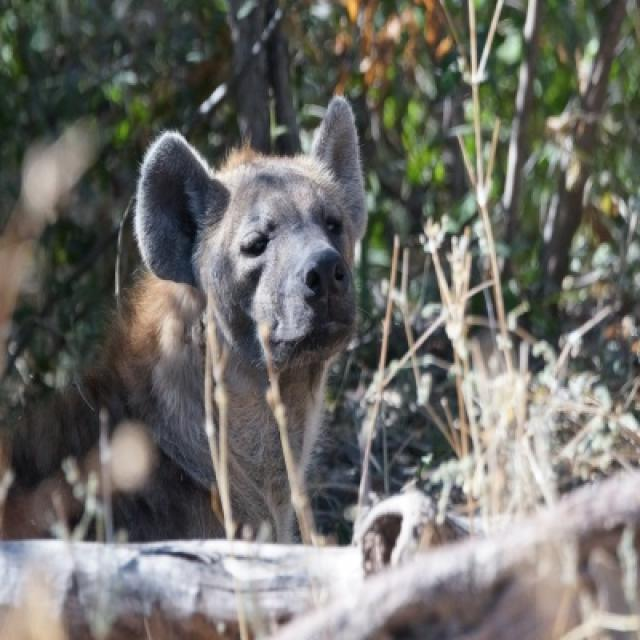hyena: (114, 96, 368, 549)
